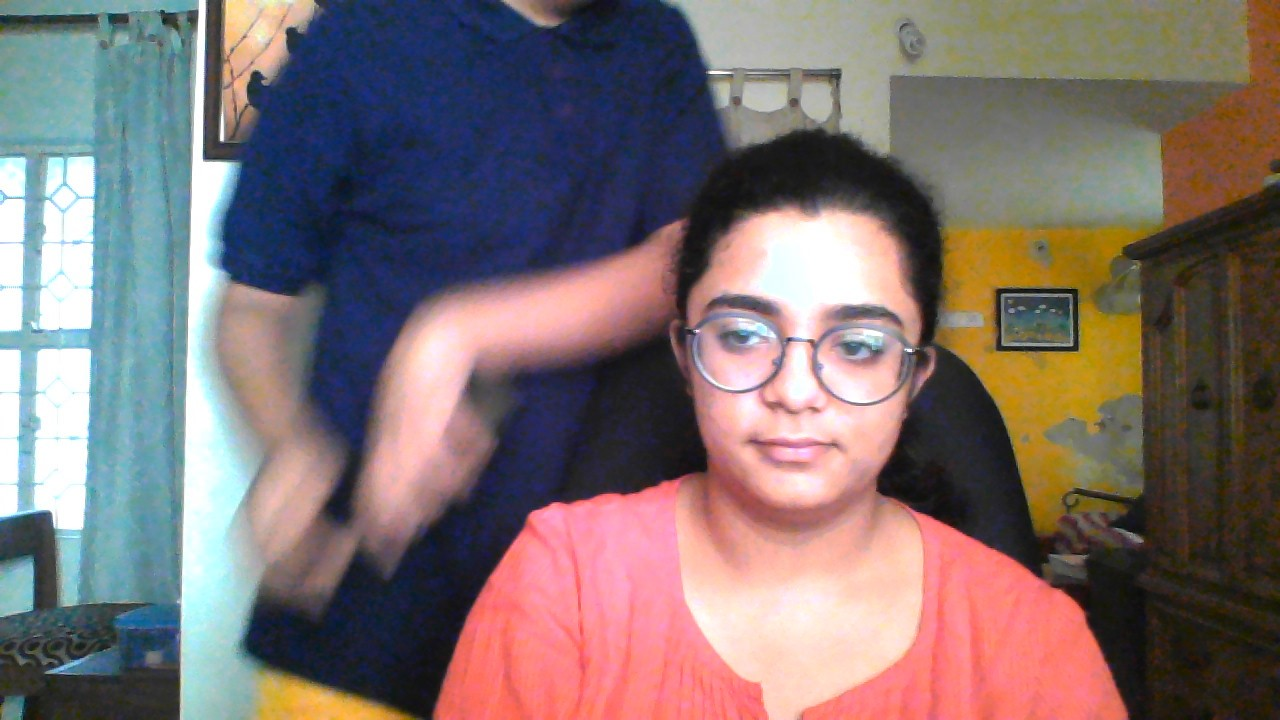person: (198, 1, 661, 608), (660, 140, 1048, 589)
